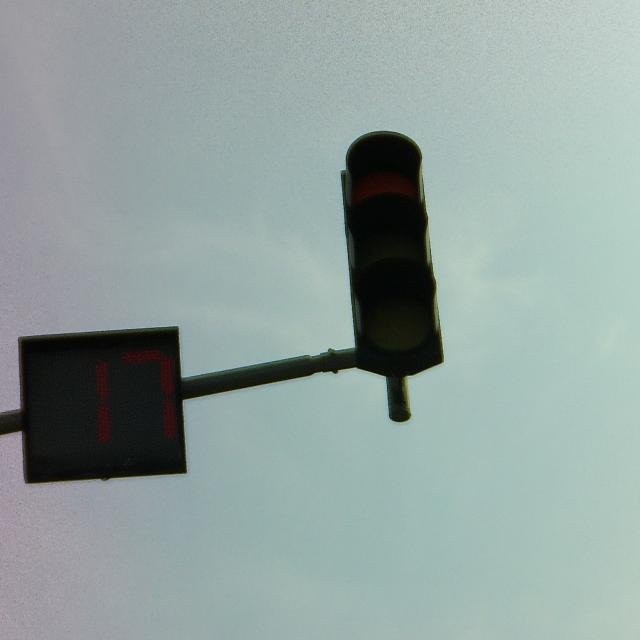Traffic Light: (341, 131, 443, 377)
